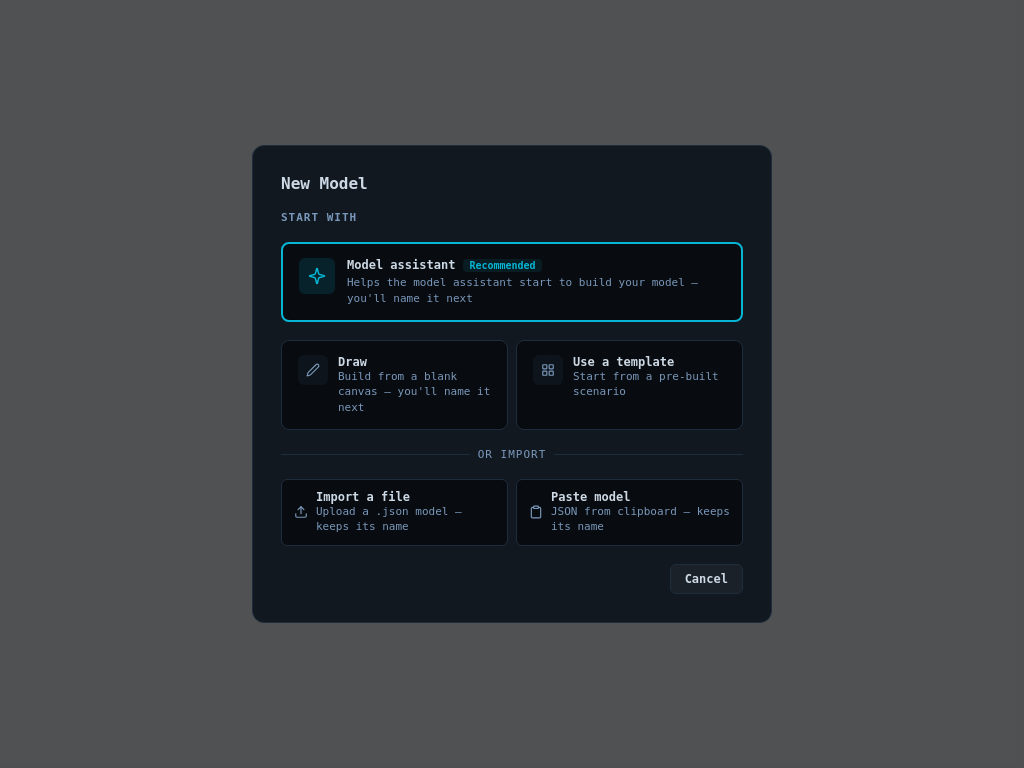
Test: accessibility pass › labels and focuses the new model modal fields
expect the dialog "New Model" is shown: met, box [252, 145, 772, 623]
expect the field with placeholder "e.g. Queue with Reneging" is not shown: met
Click the button "Draw Build from a blank canvas — you'll name it next".
click(394, 385)  # box [281, 340, 508, 430]
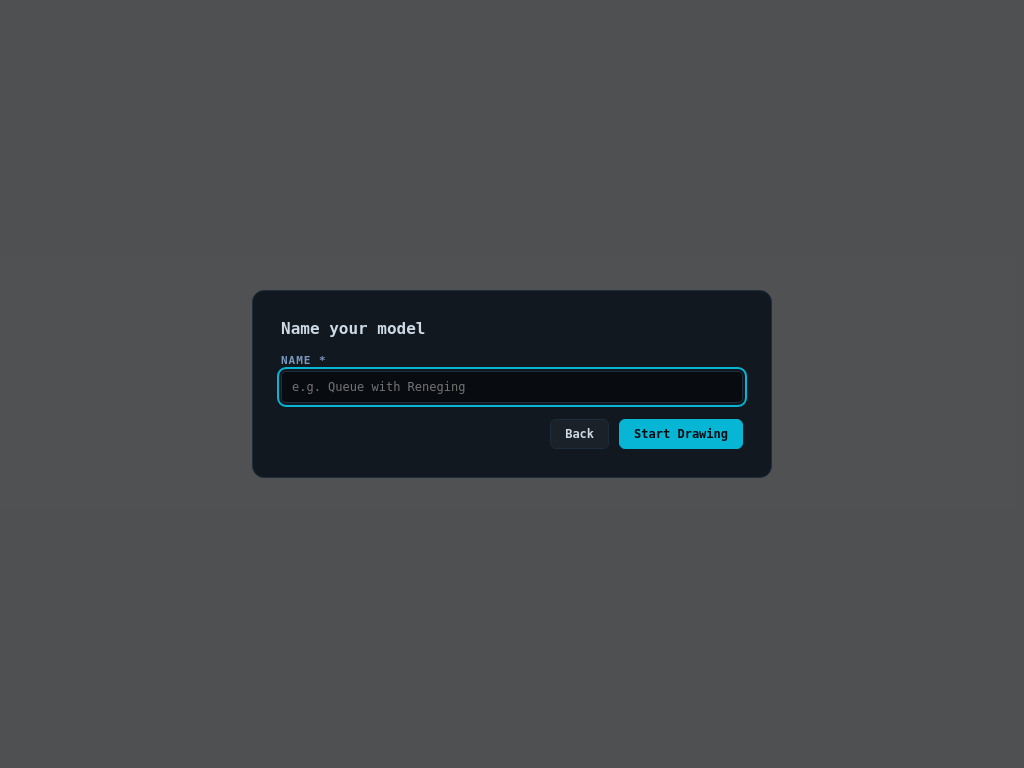
expect the dialog "Name your model NAME * Back Start Drawing" is shown: met, box [252, 290, 772, 478]
